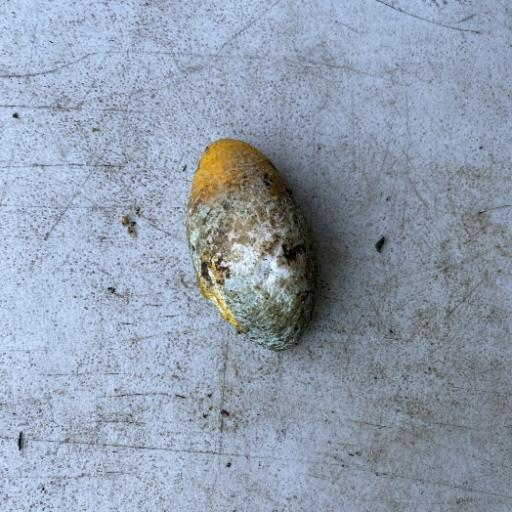Waste: (184, 137, 318, 352)
